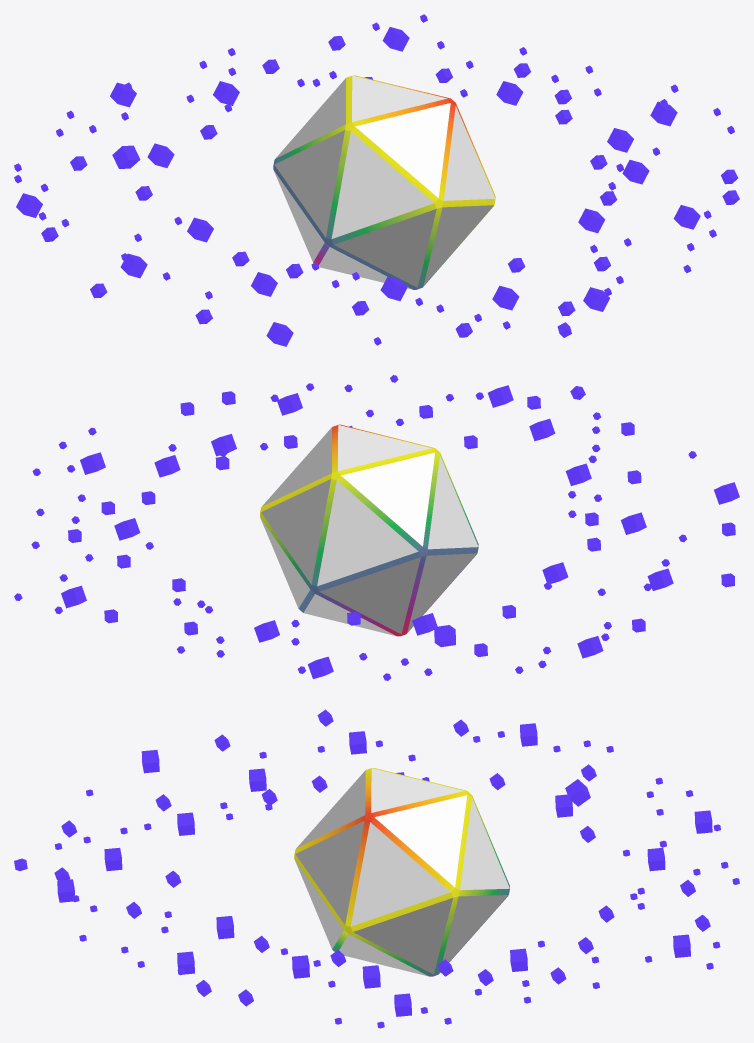
File: space.glb
3 renders of one model, top to bottom at view 1: azimuth 30°, elevation 25°; view 2: azimuth 150°, elevation 25°; view 3: azimuth 270°, elevation 25°, orthographic. The views are drawn at different scales.
Parts seen in each view (by area): view 1: Icosphere; view 2: Icosphere; view 3: Icosphere.
Boxes of the visible parts, box(x1,y1,x2,y2) form: Icosphere: box(273, 75, 495, 289); Icosphere: box(260, 424, 478, 636); Icosphere: box(294, 768, 509, 976).
Bounding box in the file's own units: 32.53 × 7.97 × 32.06.
3 materials, 1 textured.
